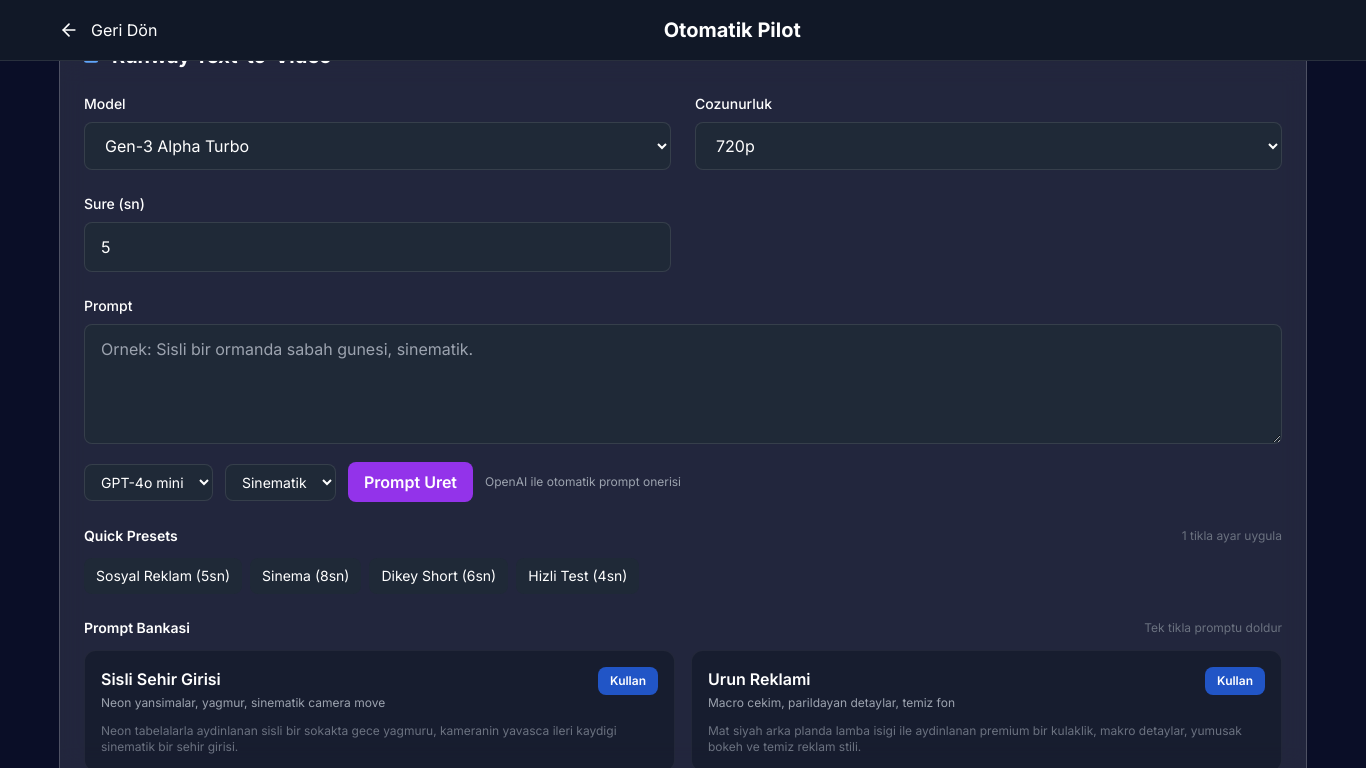
Test case: AutopilotPage › generates a prompt with OpenAI
(page scrolled)
Type "Test" into the text box with placeholder "Ornek: Sisli bir ormanda sabah gunesi, sinematik." at (683, 384), box x1=84 y1=324 x2=1282 y2=444
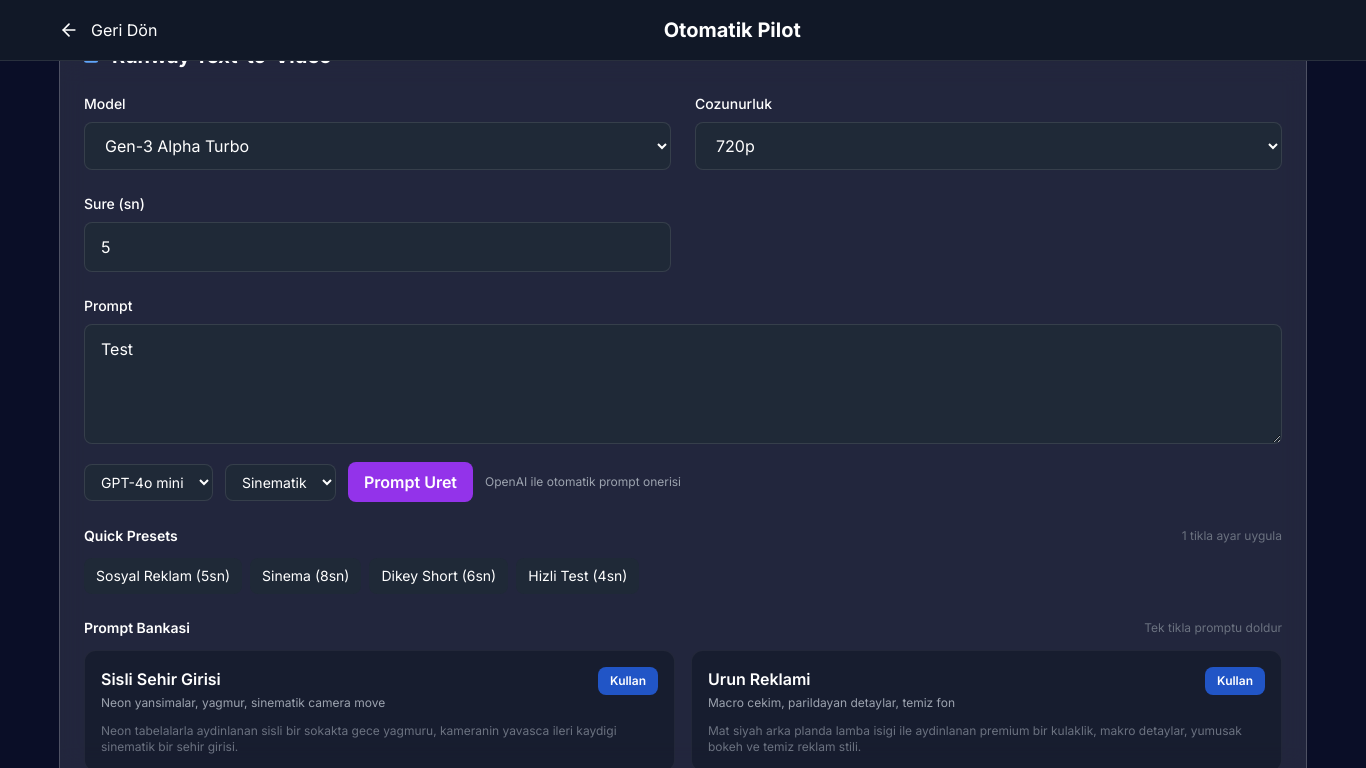
Click the button "Prompt Uret" at (410, 482), box x1=348 y1=462 x2=473 y2=502
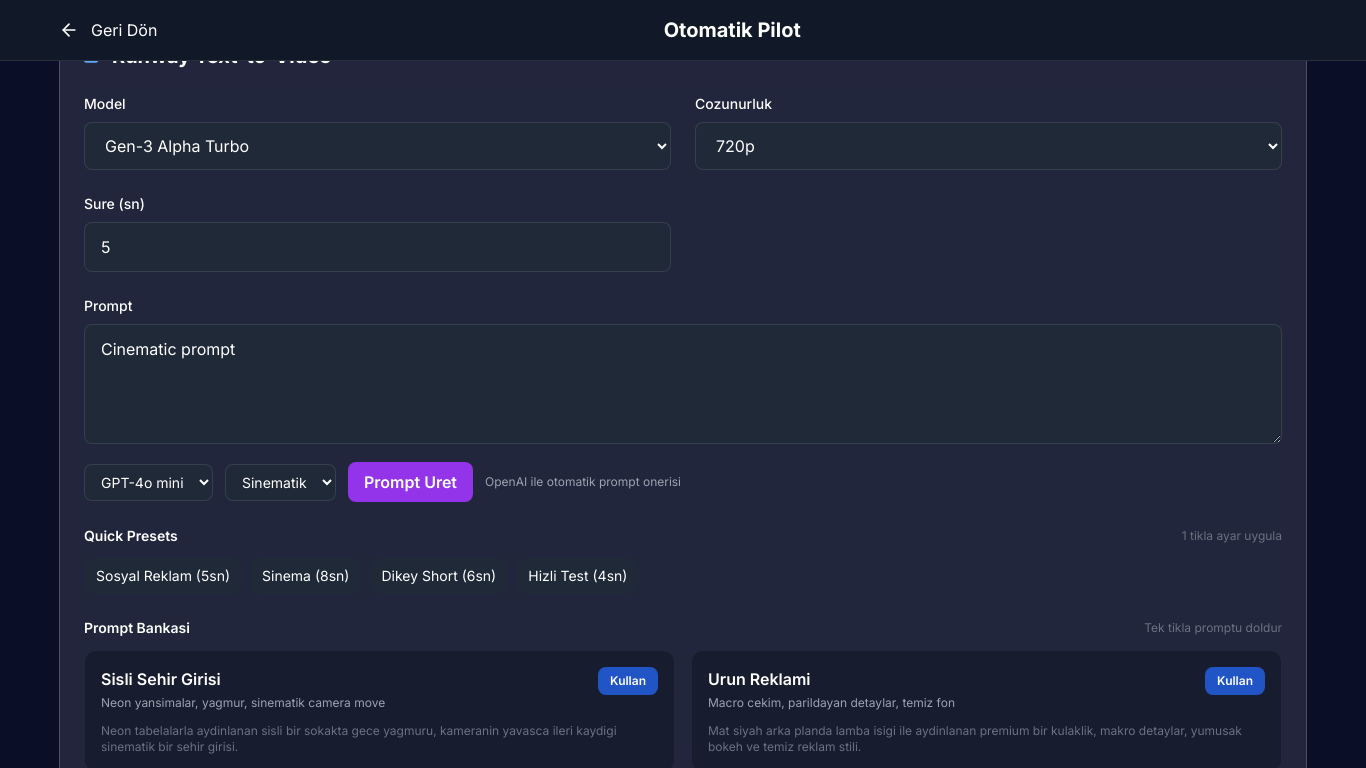
Check: the text box showing "Cinematic prompt" is shown, box x1=84 y1=324 x2=1282 y2=444
